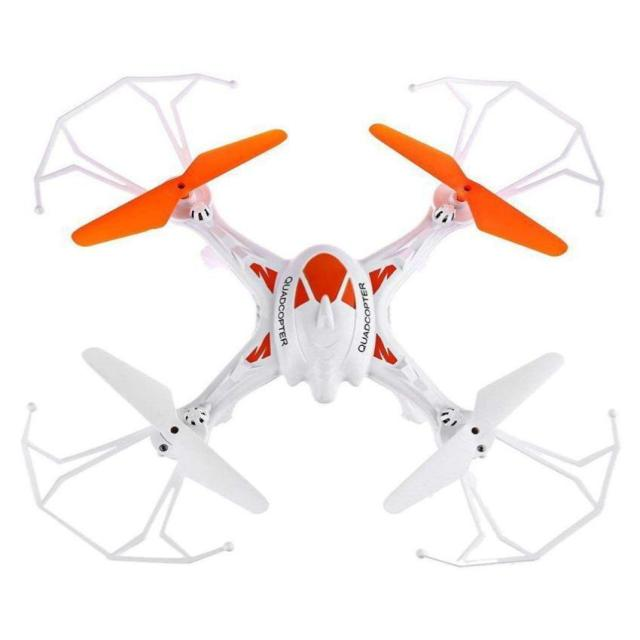drone: (27, 77, 620, 557)
